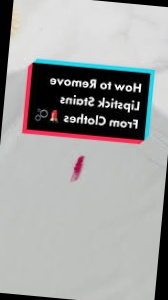lipstick: (67, 148, 90, 183)
